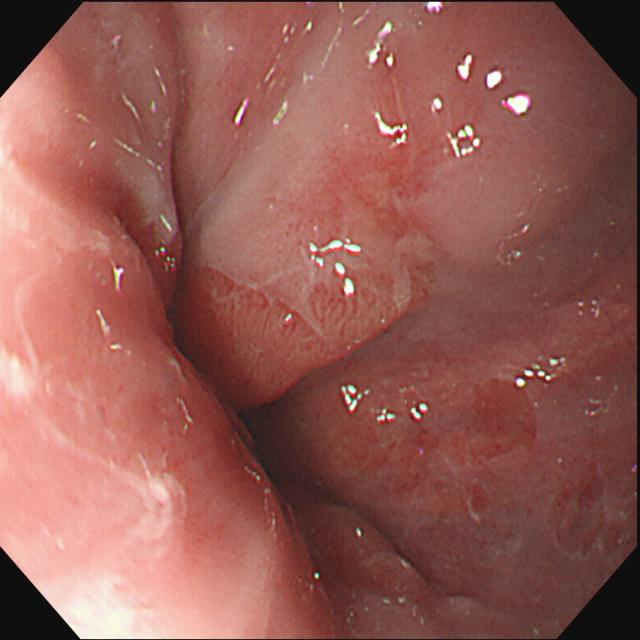I: (69, 42, 531, 634)
J: (131, 469, 191, 559)
U: (309, 238, 364, 298), (515, 355, 568, 391), (367, 18, 399, 71), (373, 111, 415, 147), (447, 124, 483, 159), (341, 383, 367, 417), (502, 92, 534, 118), (455, 52, 477, 83), (484, 66, 508, 89), (234, 95, 251, 125), (111, 261, 126, 292), (410, 403, 431, 422), (428, 2, 448, 16)
